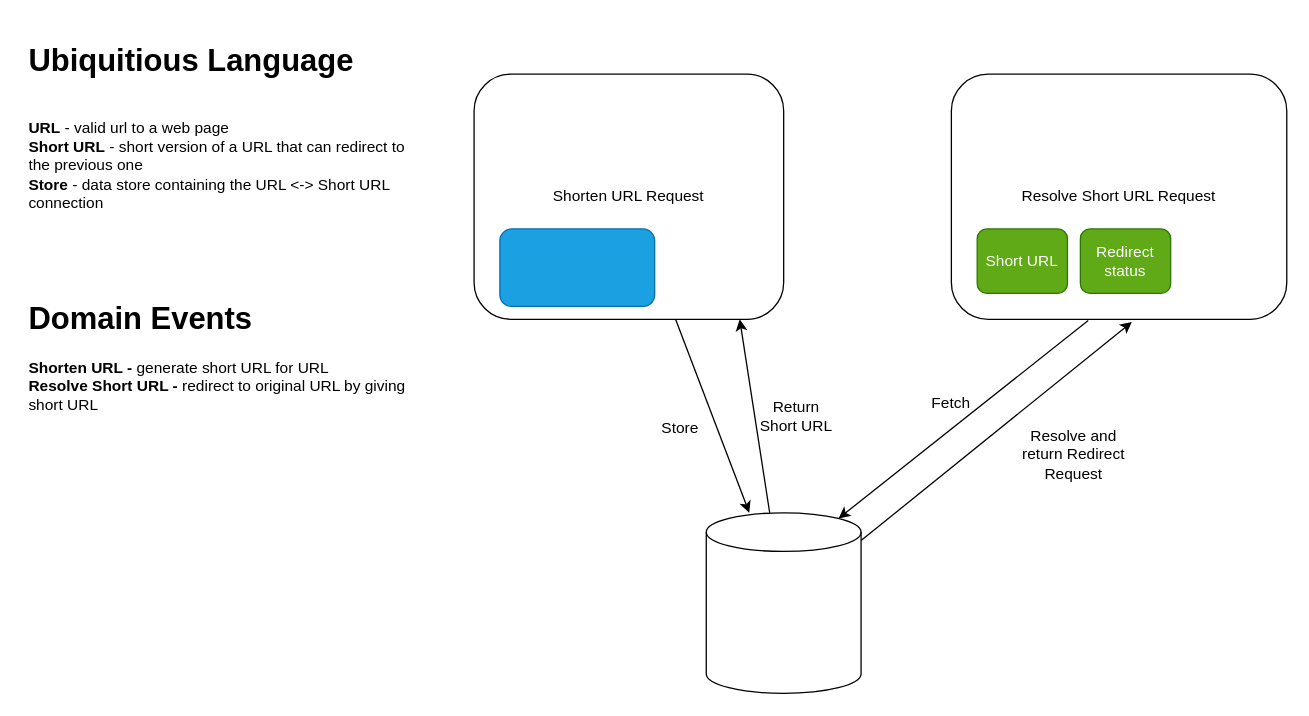
This 1309x716 diagram has some shape labels left out. Here are the shapes that lost their labels. From the top down, the centre of each, then its label:
At point 577,267: "URL".
At point 783,602: "Storage".
